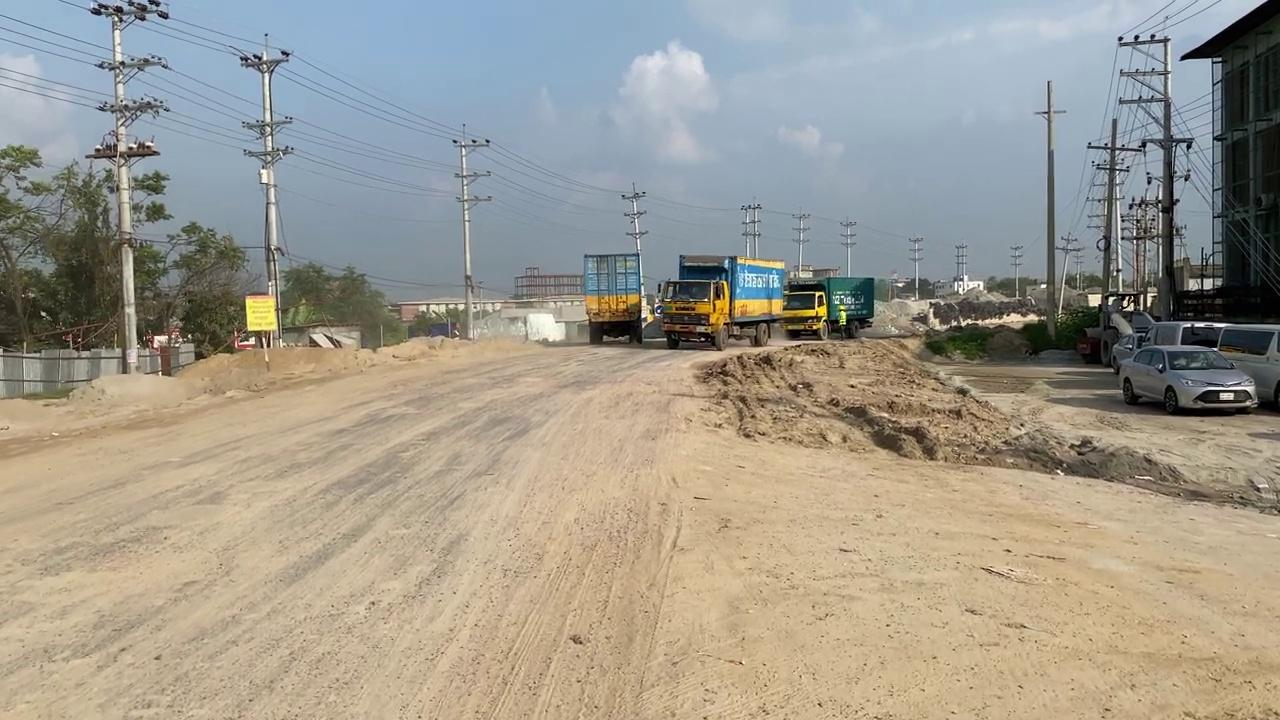Car: (1116, 343, 1258, 414)
Fence: (0, 342, 195, 399)
Muddy road: (722, 327, 1051, 464)
Pole: (87, 0, 170, 373), (239, 33, 293, 349), (451, 124, 492, 339), (1033, 79, 1066, 340)
Traffic-light: (244, 293, 277, 332)
Tree: (657, 253, 785, 350), (780, 274, 875, 340), (582, 252, 644, 344), (1075, 304, 1134, 365), (780, 279, 829, 339)
